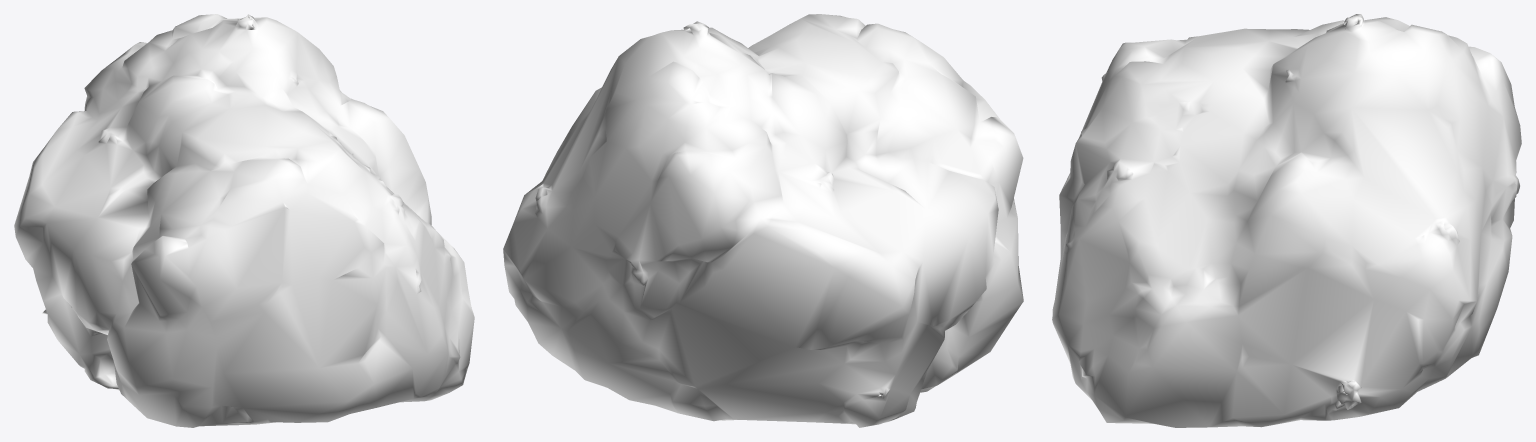
File: rock_mossy_6.glb
3 views of the same model, side by side, from view 1: azimuth 30°, elevation 25°; view 2: azimuth 150°, elevation 25°; view 3: azimuth 270°, elevation 25° (orthographic). The views are drawn at different scales.
Parts seen in each view (by area): view 1: mossy_green_rock6_LOW_RES; view 2: mossy_green_rock6_LOW_RES; view 3: mossy_green_rock6_LOW_RES.
Boxes of the visible parts, x1,y1,x2,y2 form: mossy_green_rock6_LOW_RES: (14,14,474,427); mossy_green_rock6_LOW_RES: (503,14,1023,427); mossy_green_rock6_LOW_RES: (1052,14,1521,427).
Size of the model in its own units: 0.9623 by 0.8409 by 0.9978.
Materials: 1 (1 with a texture image).
